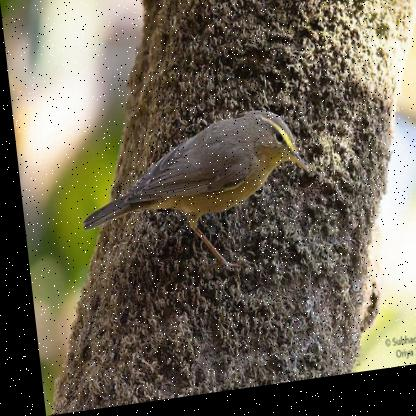Burung: (65, 112, 306, 273)
